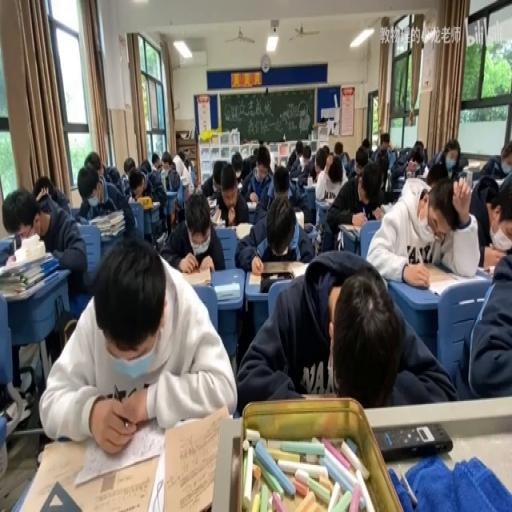calculator: (9, 432, 161, 510), (158, 405, 232, 512), (374, 422, 451, 461), (416, 262, 467, 294), (177, 266, 211, 287), (213, 282, 241, 300), (0, 234, 14, 264), (341, 220, 362, 238), (234, 222, 252, 240), (210, 205, 223, 223), (154, 230, 166, 249), (475, 264, 491, 278), (460, 164, 474, 179), (380, 200, 394, 214), (494, 175, 508, 189), (159, 171, 168, 192), (294, 209, 303, 229), (217, 222, 235, 232), (466, 158, 482, 168), (318, 196, 334, 205), (206, 194, 216, 208), (149, 199, 159, 209), (246, 201, 258, 209), (290, 174, 299, 184), (395, 176, 405, 185), (180, 175, 190, 183), (128, 196, 138, 204), (306, 176, 314, 186)
paper: (40, 233, 235, 451), (234, 250, 449, 414), (366, 172, 478, 283), (2, 181, 86, 300), (236, 191, 315, 273), (324, 155, 387, 249), (77, 162, 138, 252), (159, 191, 224, 273), (469, 169, 511, 272), (139, 155, 173, 229), (390, 138, 428, 185), (475, 138, 511, 181), (200, 157, 226, 199), (297, 141, 323, 183), (174, 164, 190, 223), (442, 136, 460, 176), (271, 165, 290, 198), (32, 173, 52, 202), (424, 162, 446, 186), (341, 145, 357, 178), (254, 144, 270, 174), (376, 152, 390, 186), (238, 151, 254, 179), (84, 151, 102, 175), (326, 156, 342, 182), (377, 134, 392, 155), (106, 164, 120, 186), (122, 155, 136, 176), (128, 178, 142, 199), (286, 145, 298, 166), (161, 152, 173, 172), (138, 160, 152, 176), (151, 152, 162, 172), (120, 172, 130, 191), (360, 138, 370, 154), (177, 148, 186, 165), (334, 141, 343, 156), (414, 141, 423, 156), (184, 156, 193, 170)
person: (260, 270, 294, 293), (260, 259, 294, 273)
